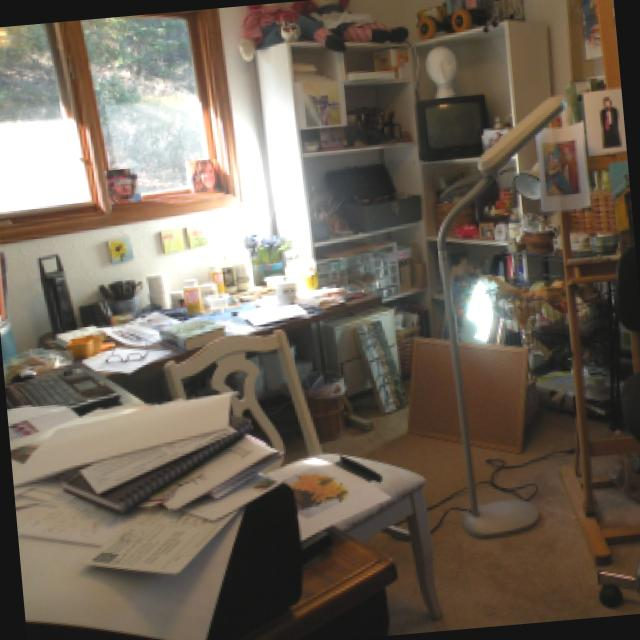mess: (90, 374, 408, 618), (289, 38, 440, 440), (422, 44, 550, 461), (0, 241, 356, 387), (0, 316, 148, 640), (522, 206, 640, 422), (245, 0, 406, 63)
